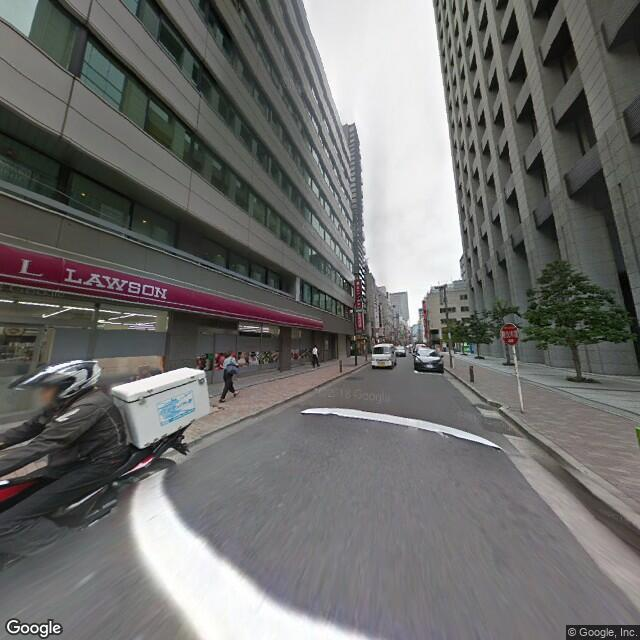lawson: (1, 243, 325, 331)
